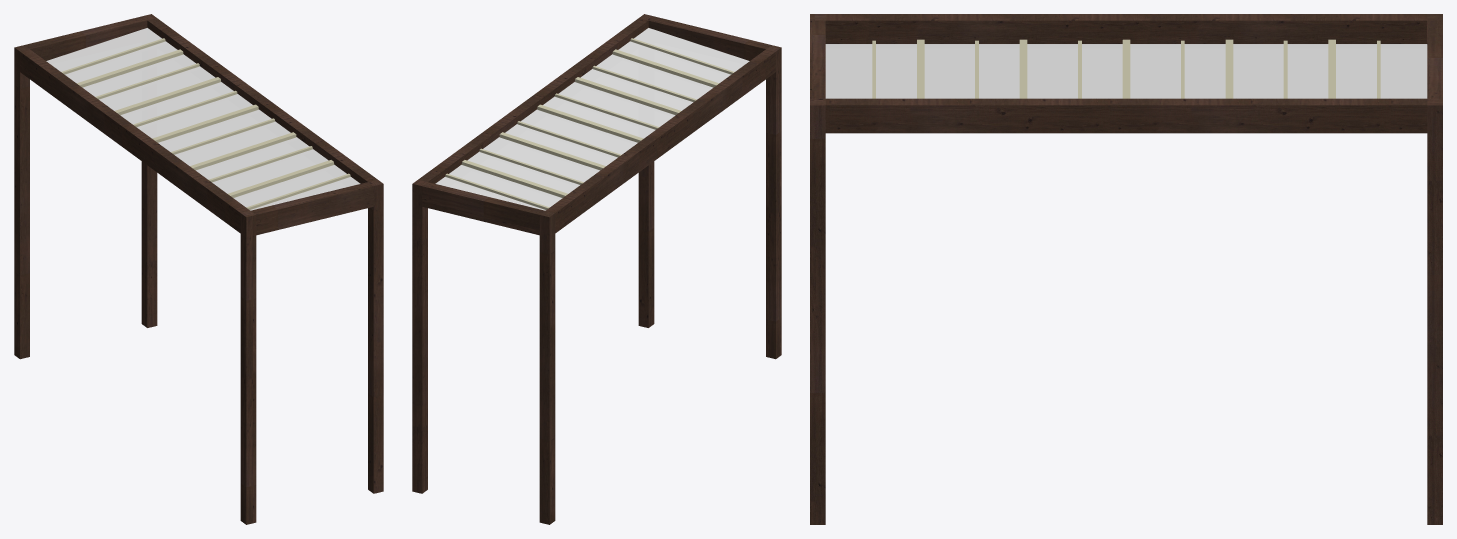
The model's file is hyr-single_h30-w13-l40_darkpine.fbx.
The picture shows the model from 3 angles, left to right: view 1: azimuth 30°, elevation 25°; view 2: azimuth 150°, elevation 25°; view 3: azimuth 270°, elevation 25°; orthographic projection. The views are drawn at different scales.
Parts seen in each view (by area): view 1: hyr-single_h30-w13-l40_darkpine; view 2: hyr-single_h30-w13-l40_darkpine; view 3: hyr-single_h30-w13-l40_darkpine.
Boxes of the visible parts, <box> form: hyr-single_h30-w13-l40_darkpine: <box>14,14,383,524</box>; hyr-single_h30-w13-l40_darkpine: <box>412,14,781,524</box>; hyr-single_h30-w13-l40_darkpine: <box>810,14,1442,524</box>.
Bounding box in the file's own units: 140 × 300 × 410.
Materials: 3 (2 with a texture image).
